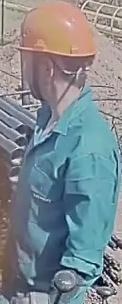helmet: (14, 1, 97, 65)
vest: (10, 85, 120, 291)
